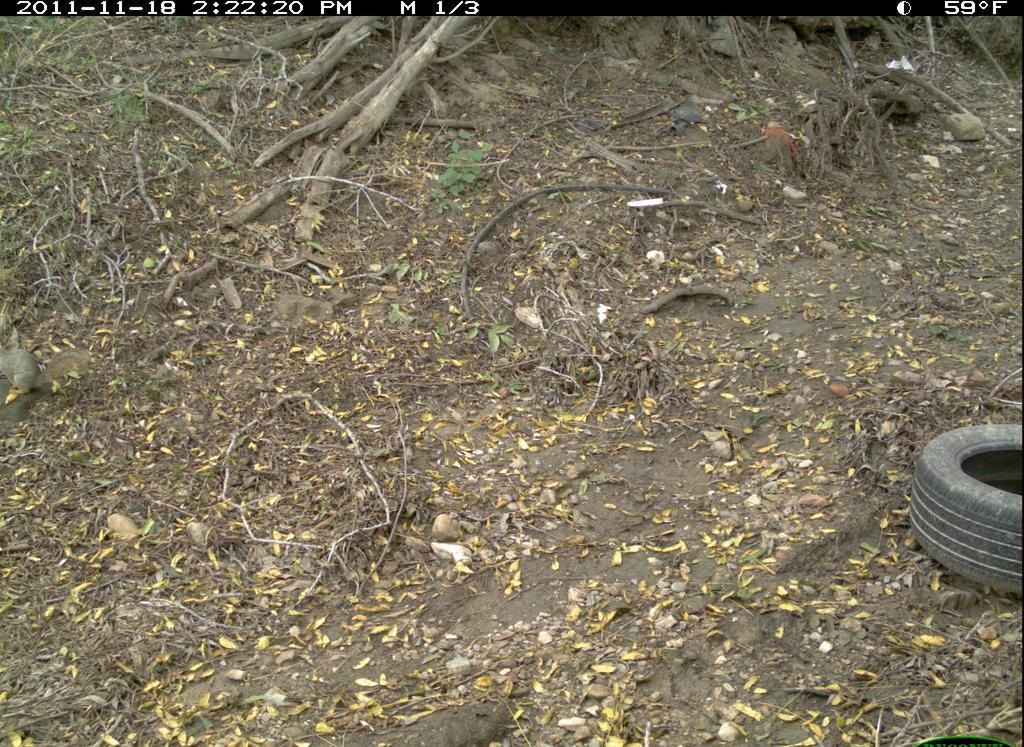squirrel: (7, 329, 103, 415)
